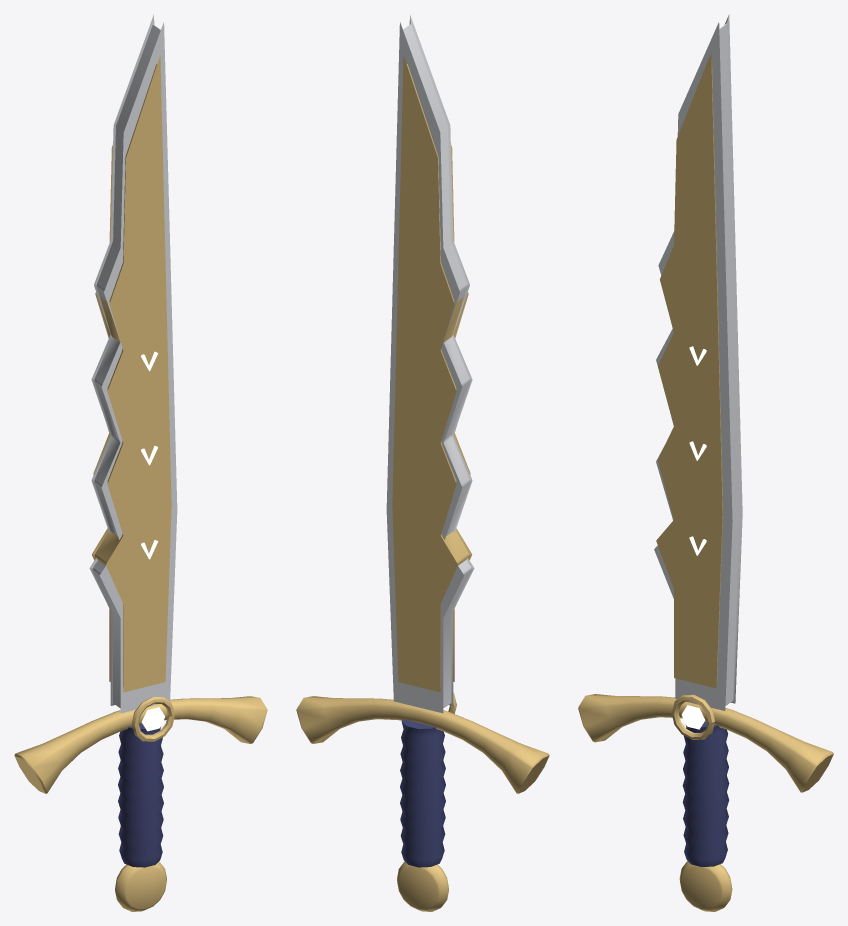
The model's file is artisan_dragon_tooth_sword.glb.
3 renders of one model, left to right at view 1: azimuth 30°, elevation 25°; view 2: azimuth 150°, elevation 25°; view 3: azimuth 330°, elevation 25°, orthographic.
Visible parts, largest first — view 1: artisan_dragon_tooth_sword; view 2: artisan_dragon_tooth_sword; view 3: artisan_dragon_tooth_sword.
Boxes of the visible parts, left/top/right/bottom form: artisan_dragon_tooth_sword: left=14, top=14, right=267, bottom=911; artisan_dragon_tooth_sword: left=296, top=14, right=549, bottom=911; artisan_dragon_tooth_sword: left=578, top=14, right=833, bottom=911.
Bounding box in the file's own units: 0.3032 × 1.07 × 0.0609.
